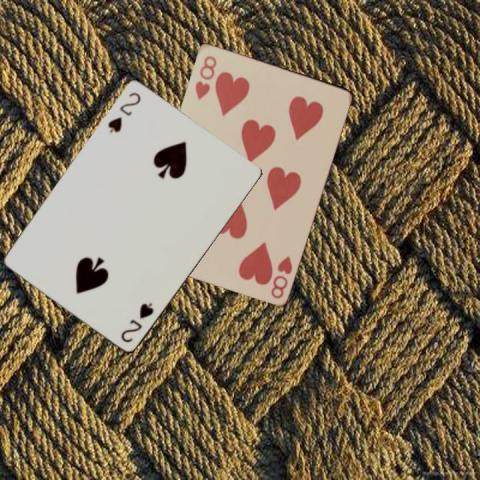2s: (104, 89, 142, 135), (118, 300, 155, 345)
8h: (191, 52, 218, 101), (268, 252, 294, 300)
